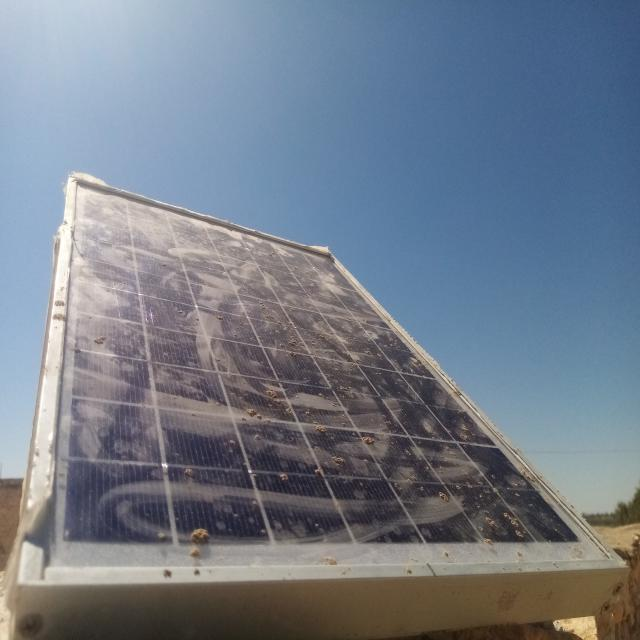faulty: (29, 178, 620, 578)
